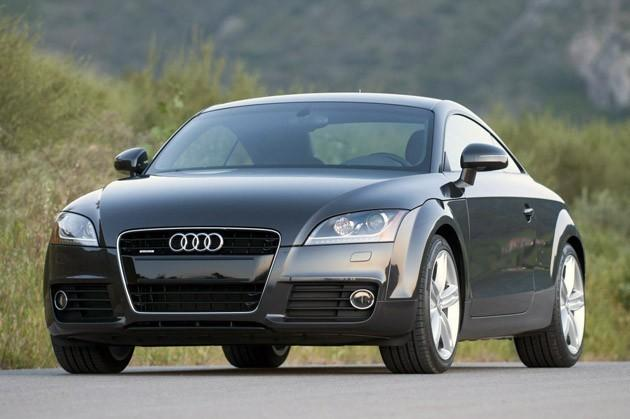Audi: (164, 225, 233, 257)
